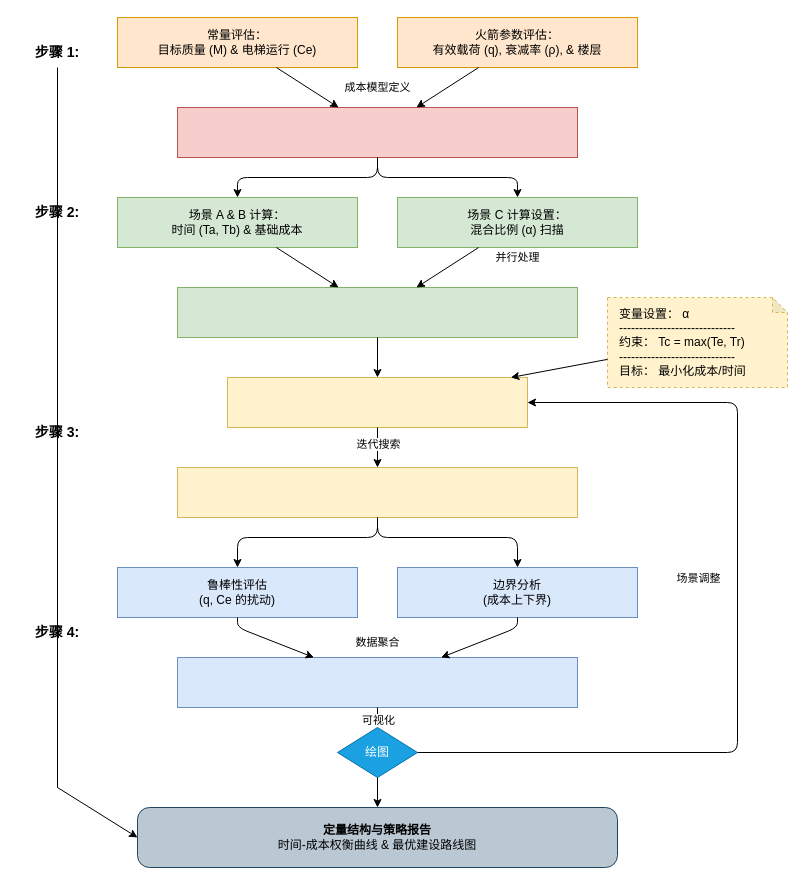
Some shapes in this 805 by 885 pixel diagram are drawn without their labels. Here are the shapes that lost their labels. From the top down, the centre of each, then its label:
At point (377, 132): "初始化学习曲线成本模型 C_L(y) 和成本函数".
At point (377, 312): "测量交付时间线 (Te, Tr) 针对每个混合比例 α".
At point (377, 402): "构建多目标 优化模型 (时间 vs 成本)".
At point (377, 492): "混合比例 (α*) 的最优解 及最小时间 (T_min)".
At point (377, 682): "识别帕累托前沿 (成本-时间) 及可行策略区域".
